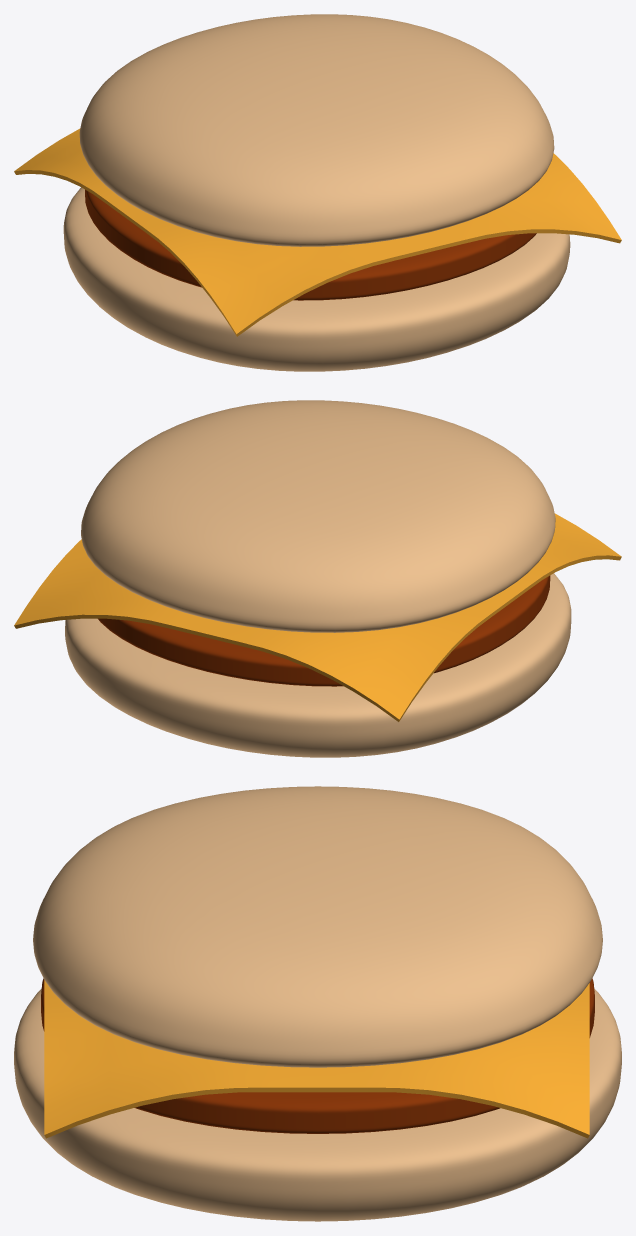
Rendered from hamburger.glb.
The picture shows the model from 3 angles, top to bottom: view 1: azimuth 30°, elevation 25°; view 2: azimuth 150°, elevation 25°; view 3: azimuth 270°, elevation 25°; orthographic projection. The views are drawn at different scales.
Parts seen in each view (by area): view 1: Cube.002, Cube, Plane, Cube.001; view 2: Cube.002, Cube, Plane, Cube.001; view 3: Cube.002, Cube, Plane, Cube.001.
Part boxes in pixels (left/top/right/bottom): Cube.002: left=79, top=14, right=554, bottom=246; Cube: left=63, top=187, right=570, bottom=371; Plane: left=14, top=128, right=621, bottom=336; Cube.001: left=85, top=189, right=536, bottom=300; Cube.002: left=81, top=400, right=555, bottom=632; Cube: left=65, top=573, right=571, bottom=757; Plane: left=14, top=513, right=621, bottom=721; Cube.001: left=98, top=575, right=550, bottom=686; Cube.002: left=33, top=786, right=602, bottom=1067; Cube: left=14, top=989, right=621, bottom=1221; Plane: left=44, top=980, right=589, bottom=1138; Cube.001: left=41, top=978, right=594, bottom=1133.
Bounding box in the file's own units: 8.98 × 4.51 × 8.98.
